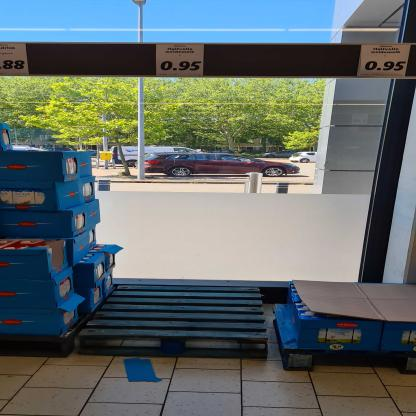prtg: (357, 46, 412, 77), (157, 45, 205, 77), (1, 45, 30, 76)
